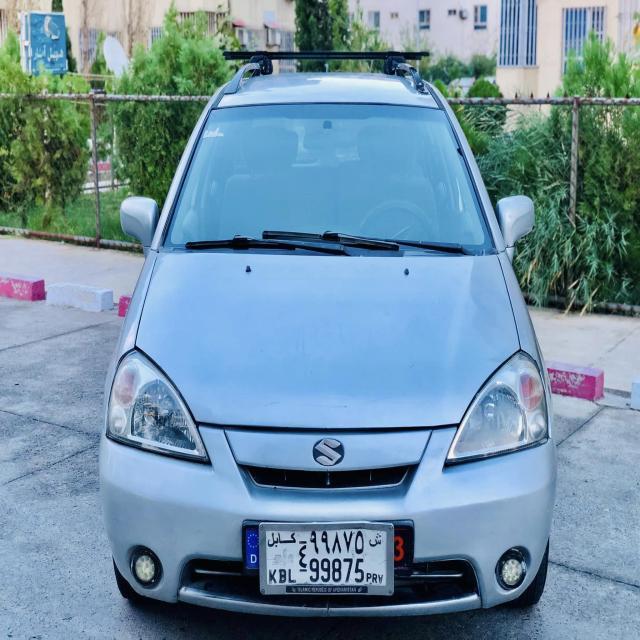Plate: (256, 517, 396, 598)
